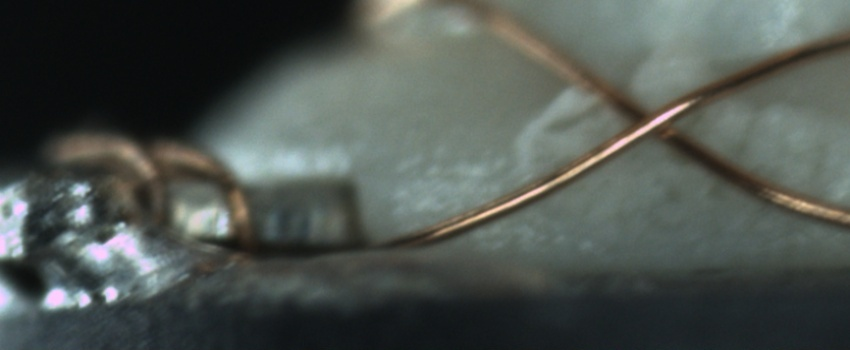CL: (589, 69, 703, 160)
DL: (389, 156, 539, 197)
TE: (51, 126, 263, 264)
